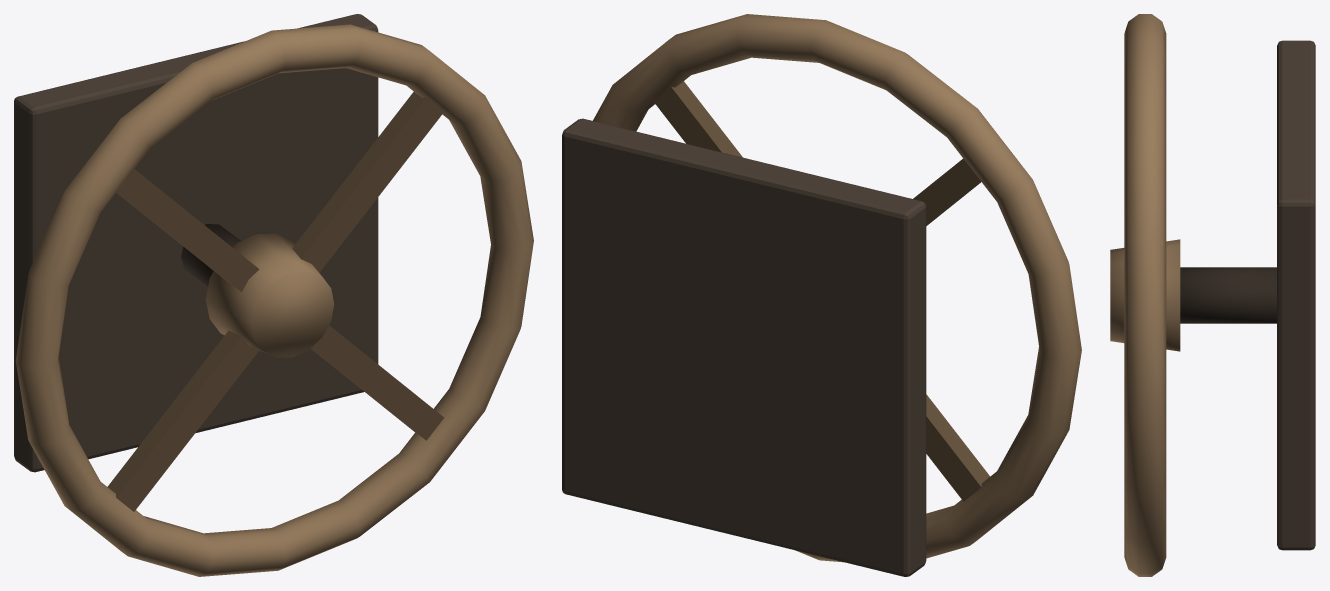
File: ph_valve.gltf
3 views of the same model, side by side, from view 1: azimuth 30°, elevation 25°; view 2: azimuth 150°, elevation 25°; view 3: azimuth 270°, elevation 25° (orthographic). The views are drawn at different scales.
Visible parts, largest first — view 1: PHValve_Plate, PHValve_Wheel_Rim, PHValve_Wheel_Hub, PHValve_Wheel_Spoke2, PHValve_Wheel_Spoke0, PHValve_Wheel_Spoke1, PHValve_Wheel_Spoke3, PHValve_Stem; view 2: PHValve_Plate, PHValve_Wheel_Rim, PHValve_Wheel_Spoke2, PHValve_Wheel_Spoke0, PHValve_Wheel_Spoke1; view 3: PHValve_Wheel_Rim, PHValve_Plate, PHValve_Stem, PHValve_Wheel_Hub.
Boxes of the visible parts, left/top/right/bottom form: PHValve_Plate: left=14, top=14, right=378, bottom=472; PHValve_Wheel_Rim: left=15, top=24, right=533, bottom=576; PHValve_Wheel_Hub: left=206, top=233, right=334, bottom=357; PHValve_Wheel_Spoke2: left=107, top=330, right=259, bottom=511; PHValve_Wheel_Spoke0: left=292, top=92, right=444, bottom=272; PHValve_Wheel_Spoke1: left=116, top=169, right=259, bottom=292; PHValve_Wheel_Spoke3: left=311, top=325, right=444, bottom=440; PHValve_Stem: left=181, top=224, right=240, bottom=286; PHValve_Plate: left=562, top=118, right=926, bottom=576; PHValve_Wheel_Rim: left=593, top=14, right=1081, bottom=562; PHValve_Wheel_Spoke2: left=926, top=394, right=989, bottom=501; PHValve_Wheel_Spoke0: left=653, top=81, right=742, bottom=157; PHValve_Wheel_Spoke1: left=913, top=158, right=980, bottom=225; PHValve_Wheel_Rim: left=1124, top=14, right=1166, bottom=576; PHValve_Plate: left=1277, top=40, right=1315, bottom=550; PHValve_Stem: left=1180, top=267, right=1276, bottom=323; PHValve_Wheel_Hub: left=1110, top=239, right=1180, bottom=351.
Bounding box in the file's own units: 0.3228 × 0.3228 × 0.117.
